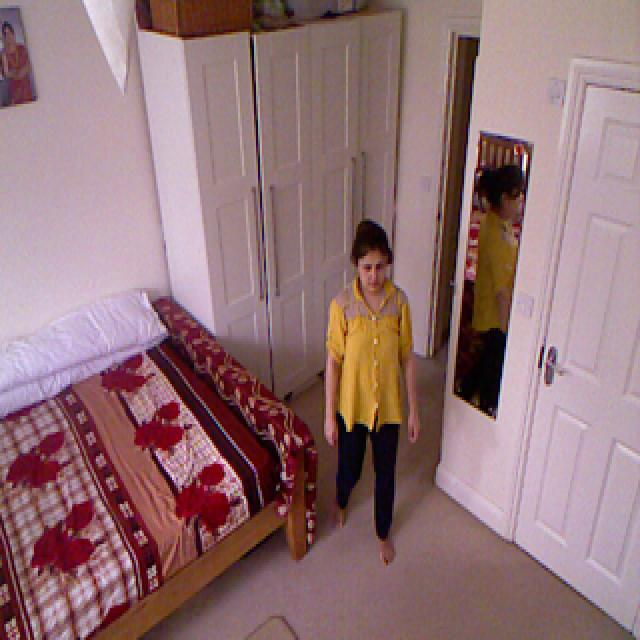standing: (324, 213, 422, 555)
